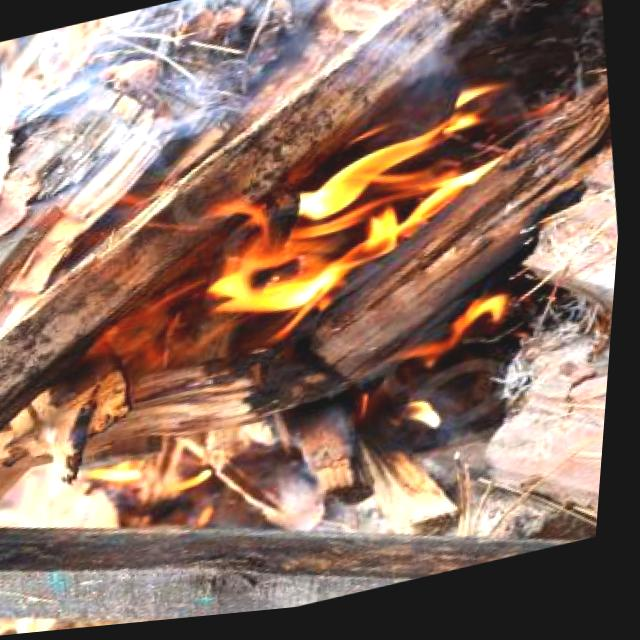helmet: (129, 72, 582, 478)
